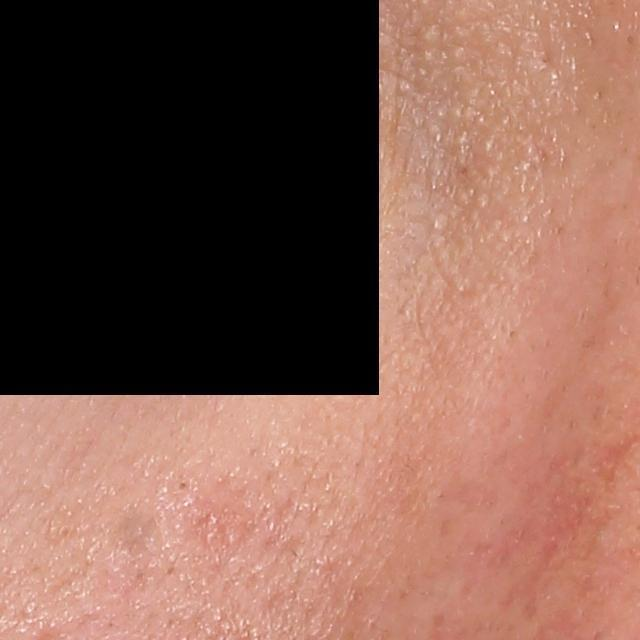comedo: (177, 477, 191, 491)
other: (115, 500, 165, 555)
